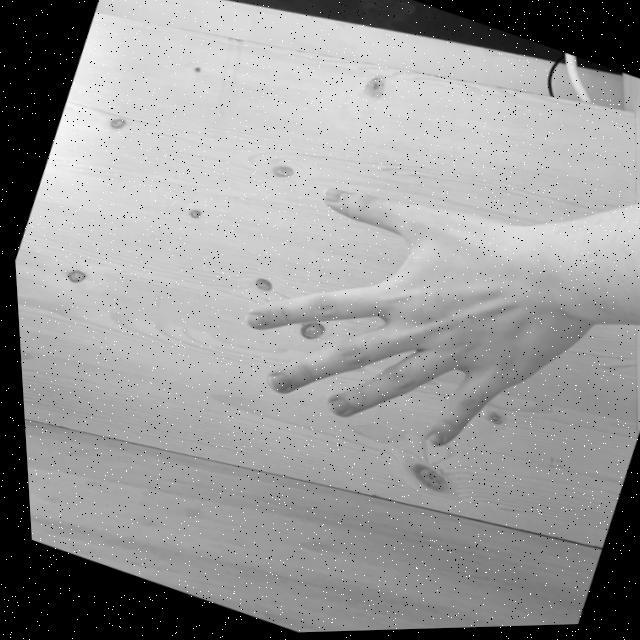no-gloves: (207, 150, 624, 503)
